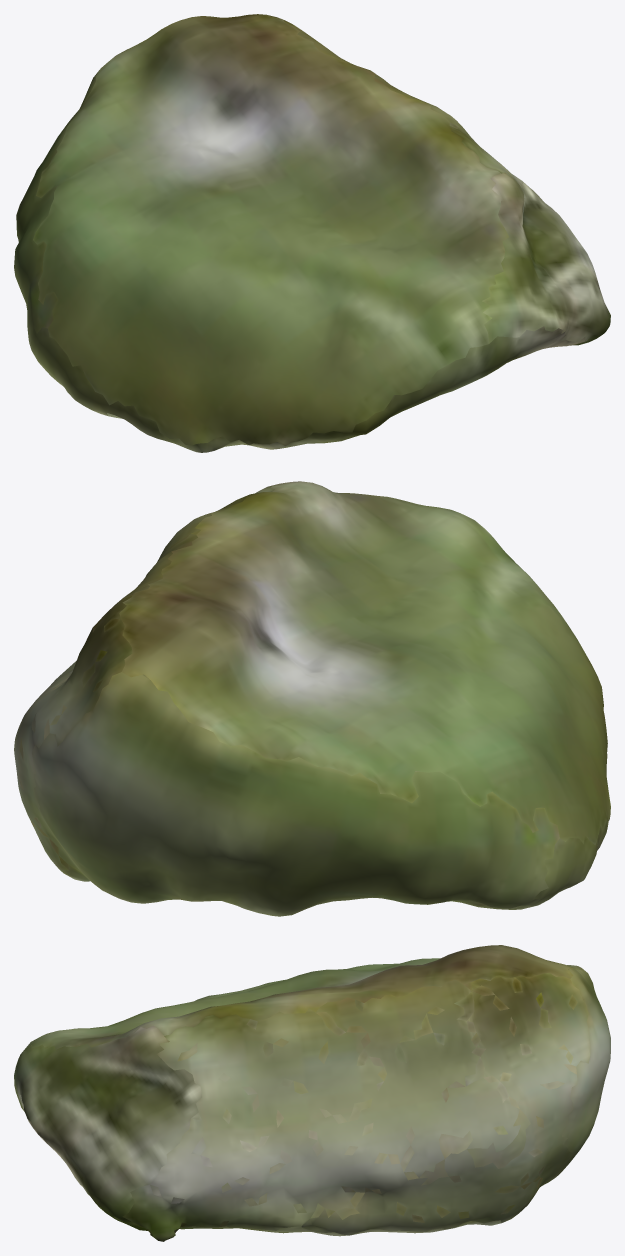
The model's file is 5_vase.glb.
3 views of the same model, one above another, from view 1: azimuth 30°, elevation 25°; view 2: azimuth 150°, elevation 25°; view 3: azimuth 270°, elevation 25° (orthographic). The views are drawn at different scales.
Parts seen in each view (by area): view 1: 5_vase; view 2: 5_vase; view 3: 5_vase.
Part boxes in pixels (x1=…): 5_vase: x1=14, y1=14, x2=610, y2=452; 5_vase: x1=14, y1=481, x2=610, y2=916; 5_vase: x1=14, y1=945, x2=610, y2=1241.
Size of the model in its own units: 0.2328 by 0.1233 by 0.2823.
Materials: 1 (1 with a texture image).
